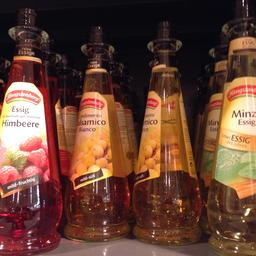vinegar: (135, 17, 206, 240), (0, 7, 64, 250), (70, 17, 134, 240), (212, 1, 254, 255)
